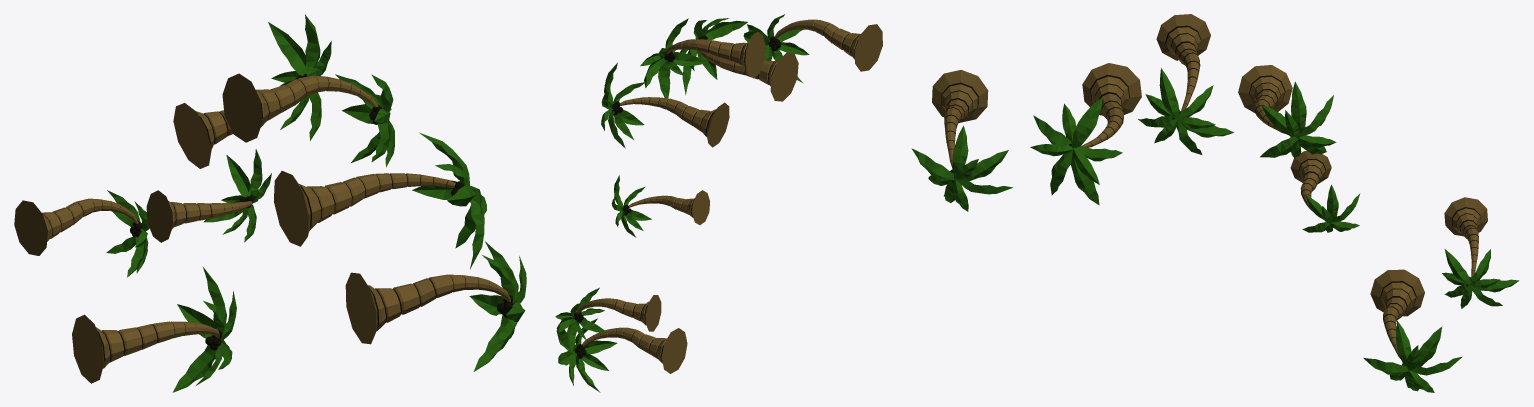
Rendered from trees.obj.
3 renders of one model, left to right at view 1: azimuth 30°, elevation 25°; view 2: azimuth 150°, elevation 25°; view 3: azimuth 270°, elevation 25°, orthographic. The views are drawn at different scales.
Visible parts, largest first — view 1: Circle.002, Circle.007, Circle.004, Circle.005, Circle.001, Circle.003, Circle.006; view 2: Circle.004, Circle.005, Circle.007, Circle.001, Circle.002, Circle.003, Circle.006; view 3: Circle.002, Circle.007, Circle.005, Circle.004, Circle.001, Circle.003, Circle.006.
Boxes of the visible parts, bbox=[...] form: Circle.002: bbox=[274, 132, 486, 268]; Circle.007: bbox=[345, 241, 526, 371]; Circle.004: bbox=[72, 267, 236, 392]; Circle.005: bbox=[222, 73, 394, 167]; Circle.001: bbox=[173, 14, 331, 168]; Circle.003: bbox=[14, 190, 149, 277]; Circle.006: bbox=[146, 149, 271, 242]; Circle.004: bbox=[556, 318, 687, 392]; Circle.005: bbox=[640, 18, 765, 98]; Circle.007: bbox=[743, 14, 882, 83]; Circle.001: bbox=[601, 62, 729, 148]; Circle.002: bbox=[680, 18, 798, 101]; Circle.003: bbox=[555, 287, 661, 352]; Circle.006: bbox=[611, 175, 709, 237]; Circle.002: bbox=[1030, 63, 1141, 205]; Circle.007: bbox=[911, 70, 1012, 211]; Circle.005: bbox=[1138, 14, 1233, 154]; Circle.004: bbox=[1363, 269, 1462, 392]; Circle.001: bbox=[1238, 65, 1336, 157]; Circle.003: bbox=[1442, 197, 1519, 308]; Circle.006: bbox=[1290, 151, 1360, 232].
Size of the model in its own units: 32.04 by 64.93 by 103.
